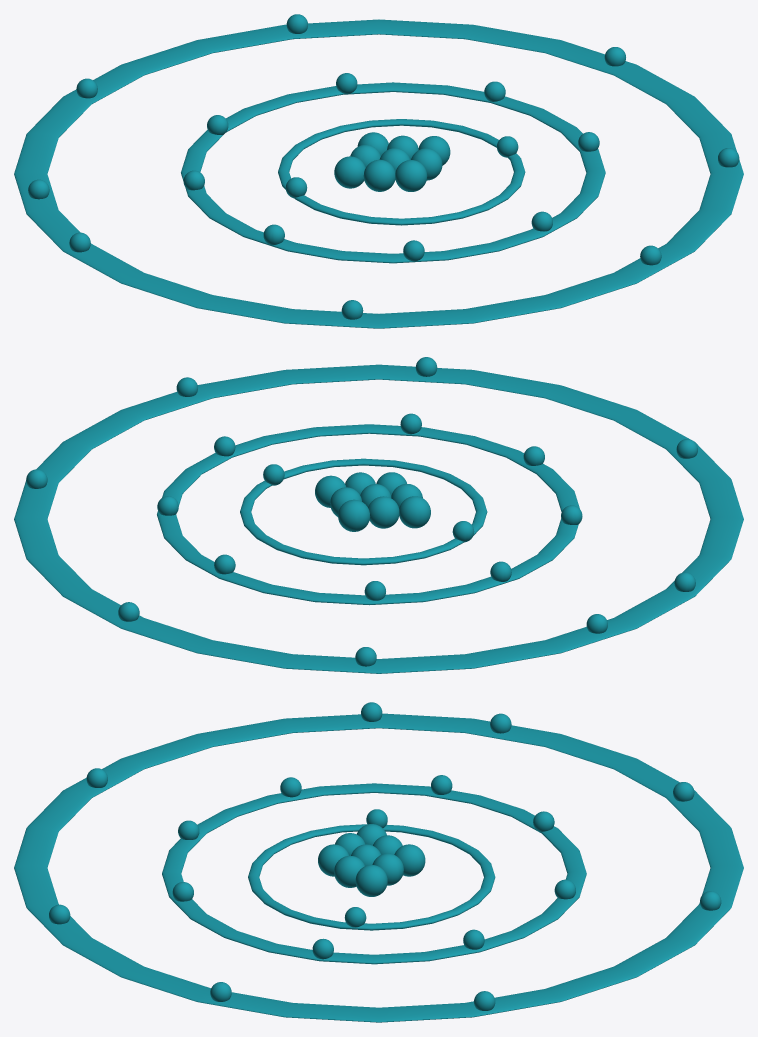
Rendered from planetary.glb.
3 renders of one model, top to bottom at view 1: azimuth 30°, elevation 25°; view 2: azimuth 150°, elevation 25°; view 3: azimuth 270°, elevation 25°, orthographic.
Parts seen in each view (by area): view 1: Object_2; view 2: Object_2; view 3: Object_2.
Part boxes in pixels (left/top/right/bottom): Object_2: left=14, top=14, right=743, bottom=328; Object_2: left=14, top=357, right=743, bottom=673; Object_2: left=14, top=702, right=743, bottom=1022.
Size of the model in its own units: 136 by 6 by 136.
